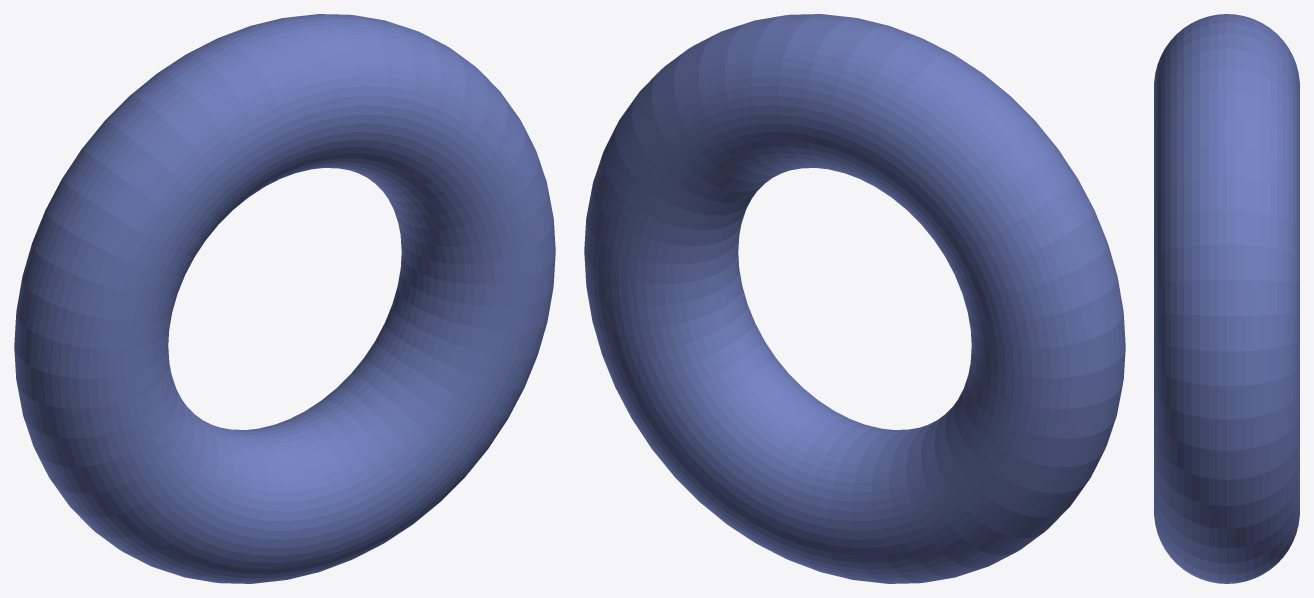
3 views of the same model, side by side, from view 1: azimuth 30°, elevation 25°; view 2: azimuth 150°, elevation 25°; view 3: azimuth 270°, elevation 25° (orthographic). The views are drawn at different scales.
Visible parts, largest first — view 1: world; view 2: world; view 3: world.
Part boxes in pixels (<box>): world: <box>14,14,555,583</box>; world: <box>584,14,1125,583</box>; world: <box>1154,14,1299,583</box>.
Size of the model in its own units: 16.13 by 16.1 by 4.13.
